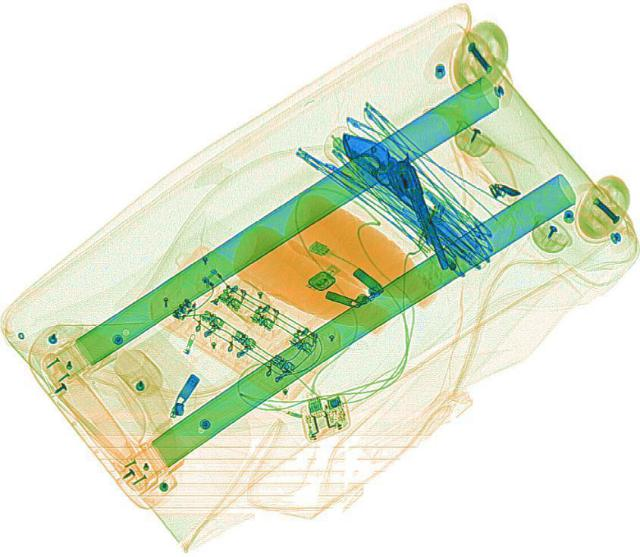Gun: (338, 121, 448, 278)
